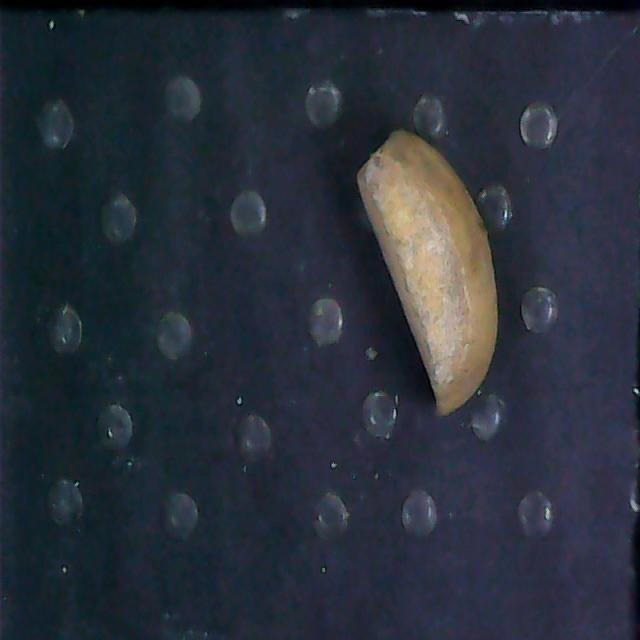-Kitchen waste - potato-: (364, 120, 506, 412)
